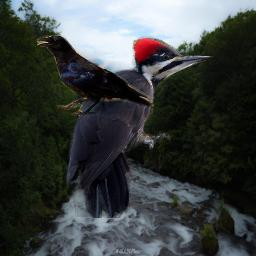Crow: (37, 35, 154, 116)
Woodpecker: (59, 36, 214, 218)
